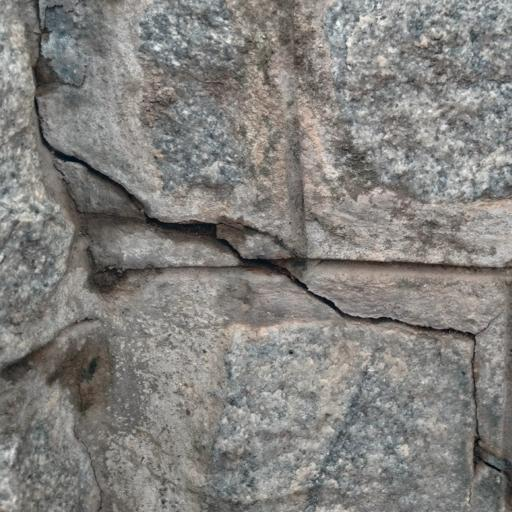major_crack: (12, 31, 512, 479)
